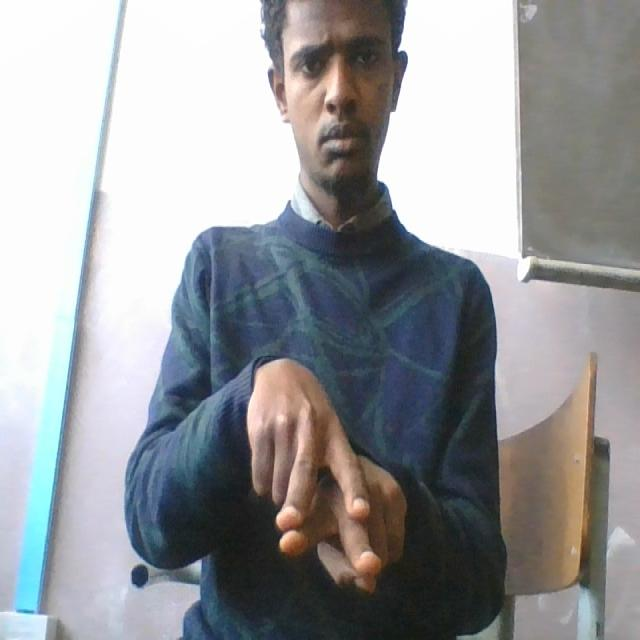babur: (242, 347, 424, 613)
